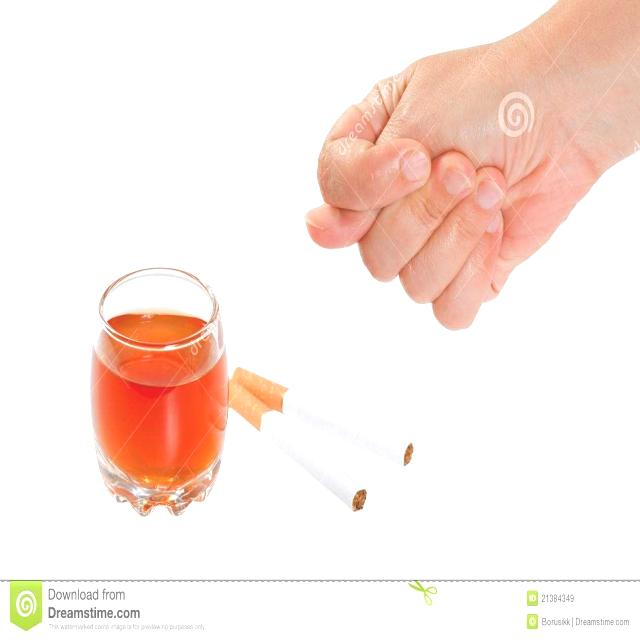Smooking: (226, 372, 430, 518)
